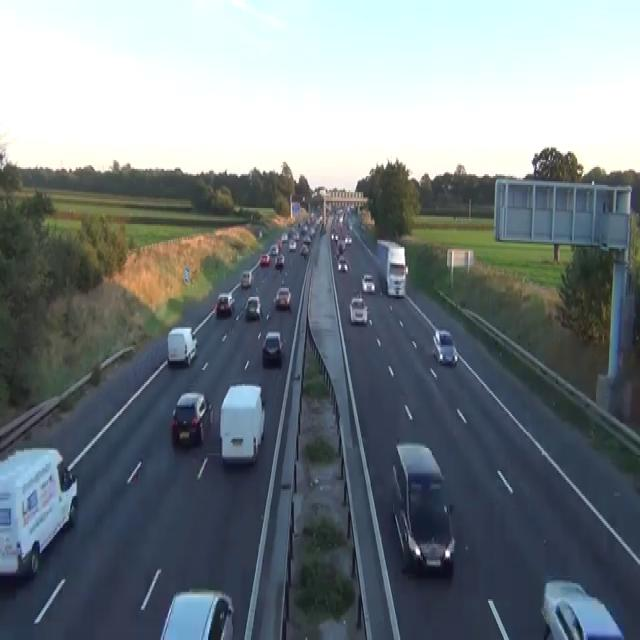Car: (391, 439, 455, 574), (540, 578, 624, 638), (159, 588, 234, 638), (171, 391, 213, 446), (167, 326, 198, 366), (432, 329, 458, 364), (262, 330, 285, 362), (349, 295, 368, 324), (215, 292, 235, 314), (244, 295, 261, 320), (273, 286, 291, 308), (361, 272, 375, 293), (240, 270, 252, 288), (337, 256, 348, 272), (274, 252, 284, 268), (259, 252, 270, 266), (337, 238, 345, 254), (300, 244, 309, 256), (269, 244, 278, 256), (288, 238, 296, 251), (330, 229, 338, 242), (319, 222, 326, 235), (281, 231, 288, 244), (302, 233, 311, 243), (344, 235, 352, 245), (258, 228, 262, 238), (347, 219, 351, 229), (266, 311, 270, 320)
Truck: (0, 446, 78, 580), (219, 382, 265, 464), (376, 238, 408, 297)
